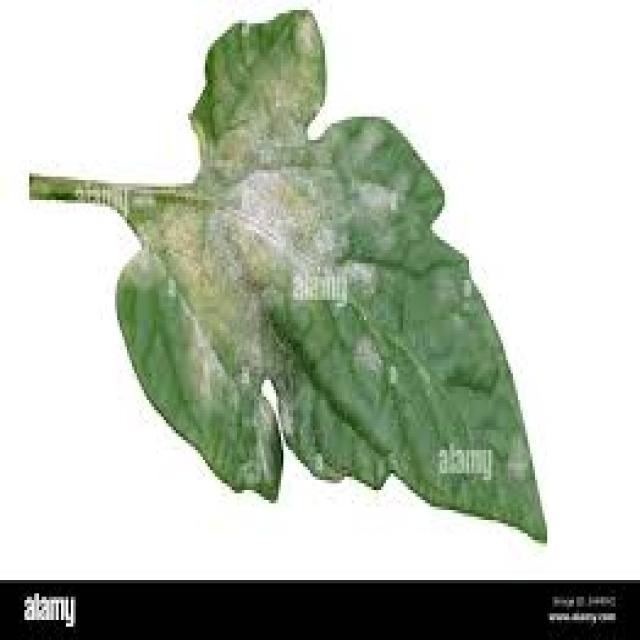leaf: (28, 7, 548, 545)
